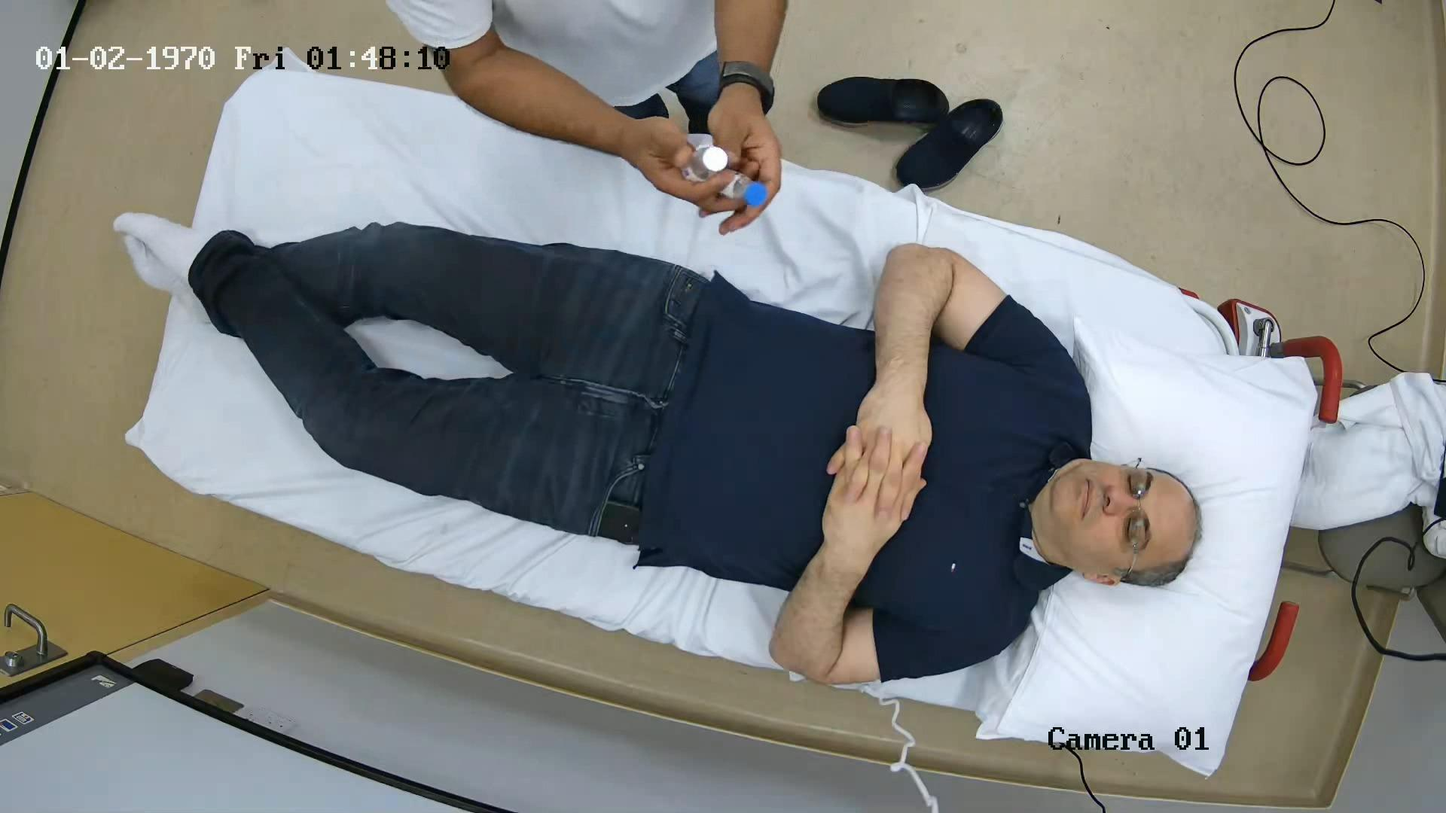augmentin: (685, 145, 728, 181)
bed: (127, 70, 1339, 775)
cefazolin: (721, 174, 768, 207)
patient: (182, 223, 1200, 684)
